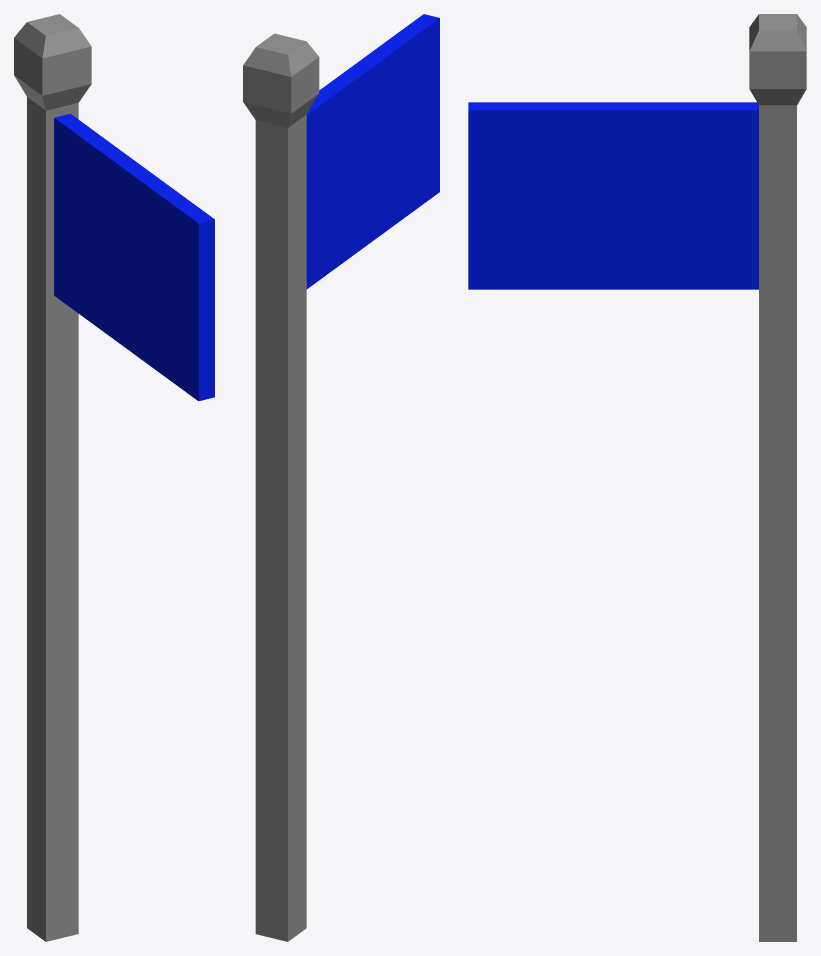
The model's file is flag.gltf.
3 views of the same model, side by side, from view 1: azimuth 30°, elevation 25°; view 2: azimuth 150°, elevation 25°; view 3: azimuth 270°, elevation 25° (orthographic). The views are drawn at different scales.
Visible parts, largest first — view 1: flagpole, flag; view 2: flagpole, flag; view 3: flag, flagpole.
Part boxes in pixels (x1,y1,x2,y2): flagpole: [14, 14, 91, 941]; flag: [54, 113, 214, 401]; flagpole: [243, 33, 319, 941]; flag: [306, 14, 439, 289]; flag: [468, 102, 758, 289]; flagpole: [749, 14, 806, 941].
Bounding box in the file's own units: 0.1875 × 3.29 × 1.11.
Materials: 1 (1 with a texture image).
